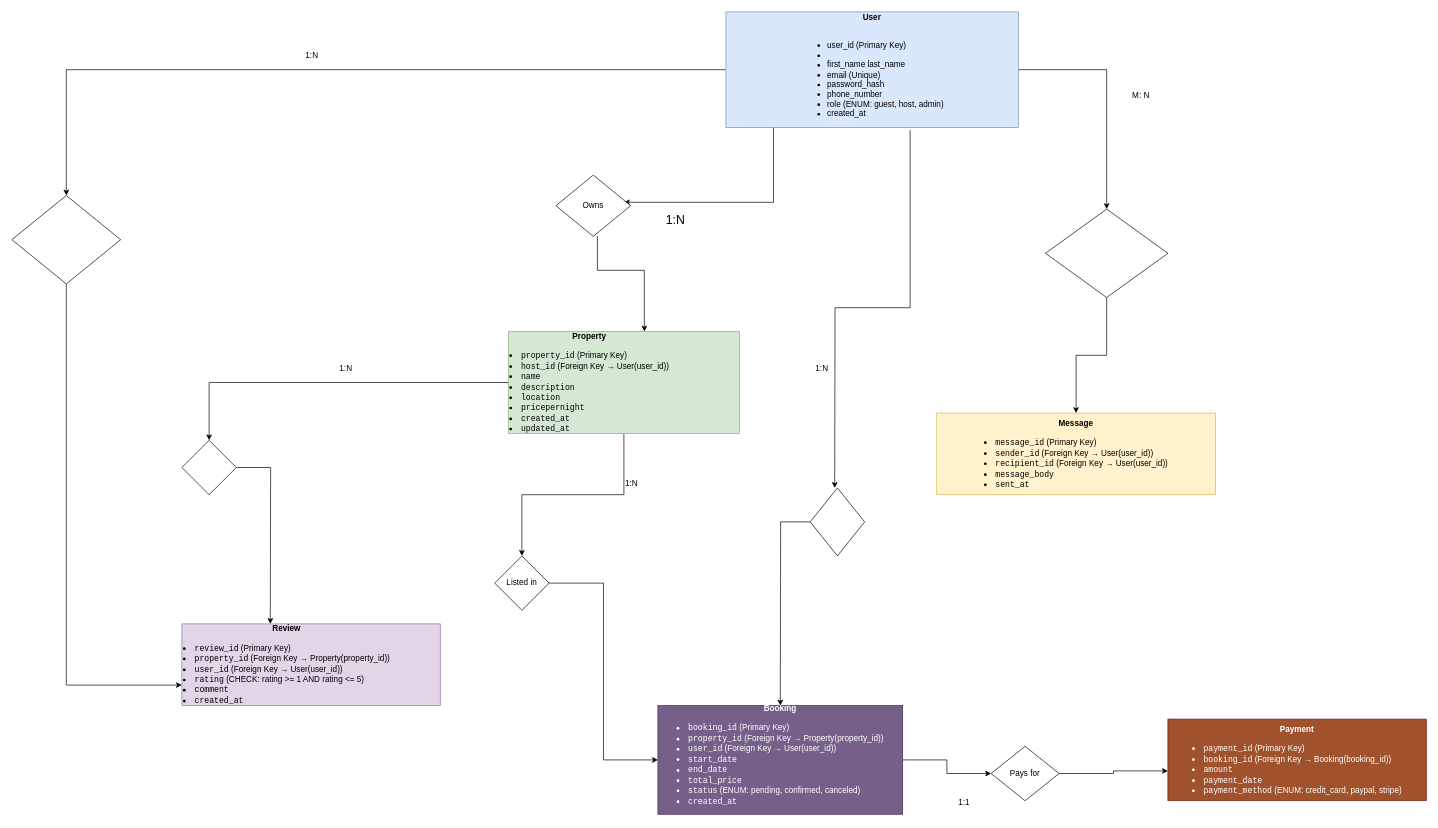
Some shapes in this 1438 by 828 pixel diagram are drawn without their labels. The shapes that lost their labels are listed below. From the top down, each one's centre as x and y in pixels, then its label:
At point (66, 239): "Wwritten by".
At point (1106, 253): "Sends and receives".
At point (208, 467): "Reviewed By".
At point (837, 521): "Books".
